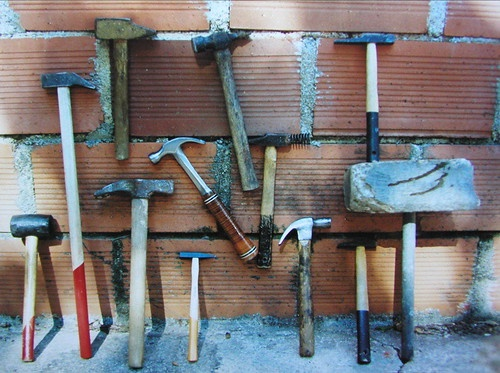hammer: (342, 157, 479, 363), (41, 64, 108, 360), (183, 26, 277, 190), (98, 170, 175, 362), (149, 136, 259, 261), (333, 26, 410, 167), (93, 21, 155, 161), (281, 222, 334, 361), (9, 214, 57, 364), (251, 131, 297, 267), (335, 240, 383, 364), (172, 248, 221, 359)
